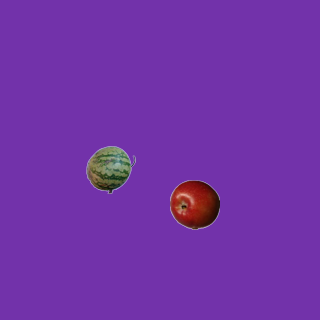Apple Braeburn: (169, 179, 219, 229)
Watermelon: (85, 144, 135, 194)
